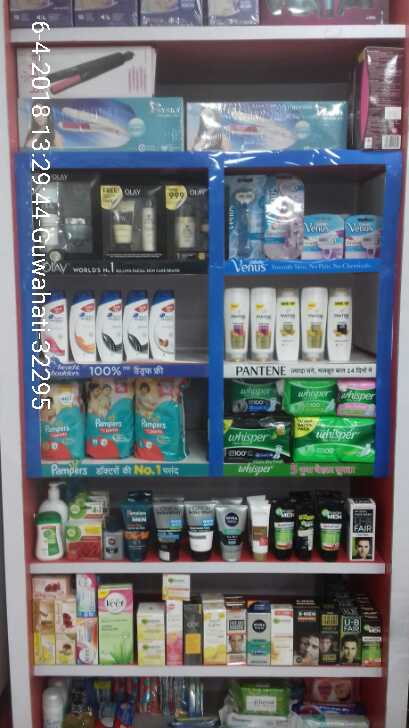venus: (228, 173, 263, 261), (269, 180, 298, 260), (306, 217, 346, 259), (346, 216, 378, 259)
